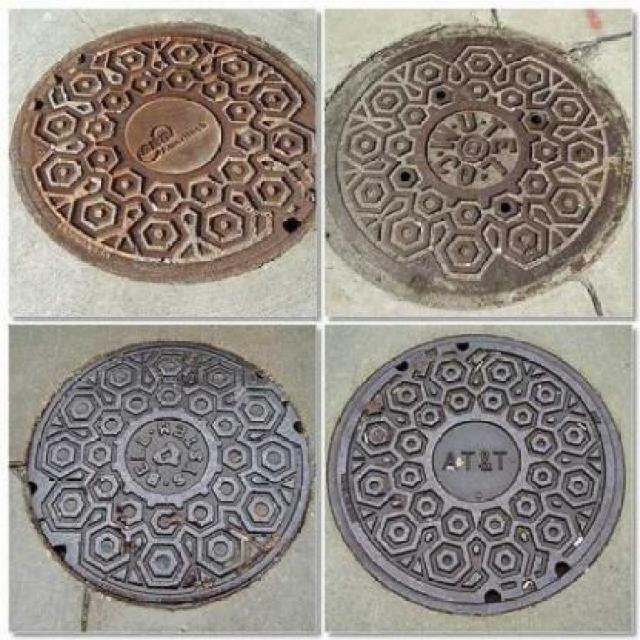Manhole: (323, 12, 628, 312), (326, 328, 628, 620), (7, 14, 320, 293), (15, 333, 314, 618)
